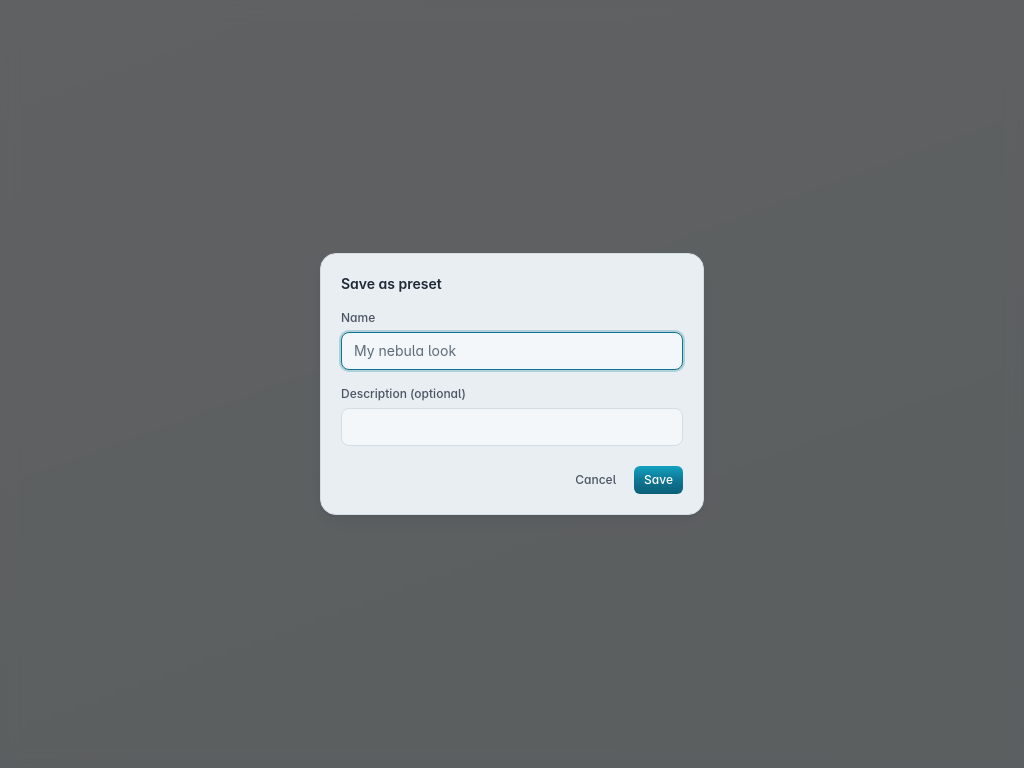
Test case: SavePresetDialog › keeps the dialog open and shows the error when saving fails
In the field with placeholder "My nebula look": (512, 351) [341, 332, 683, 370], type "Nebula"
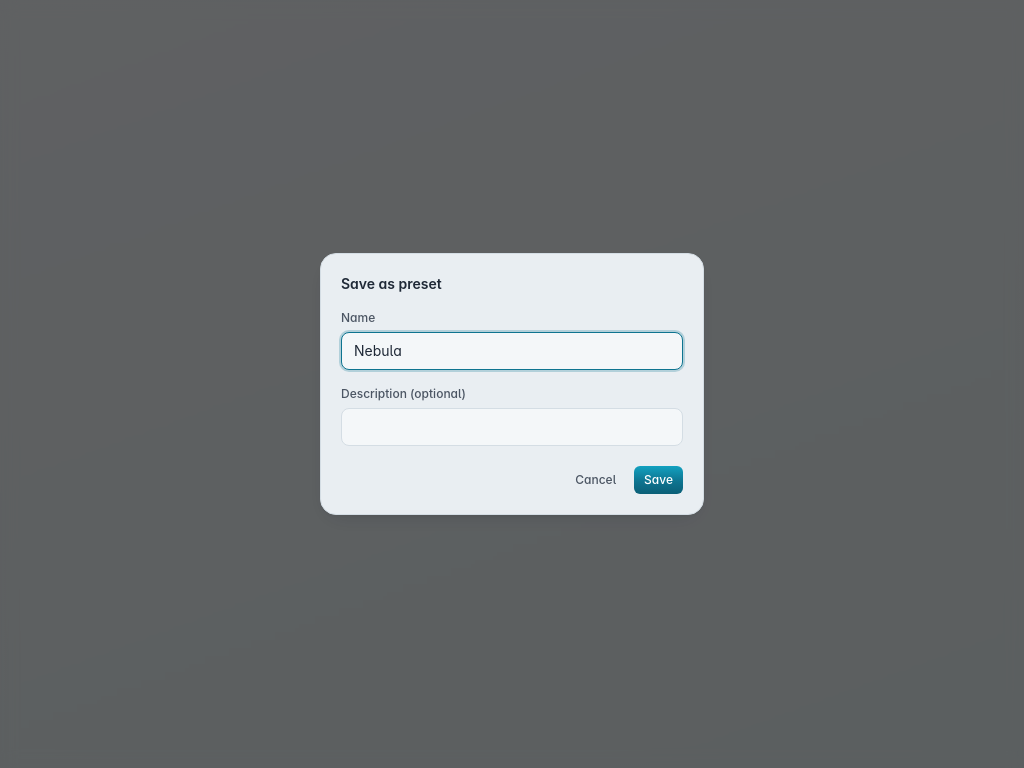
Click the button "Save": click(659, 480) [634, 466, 683, 494]
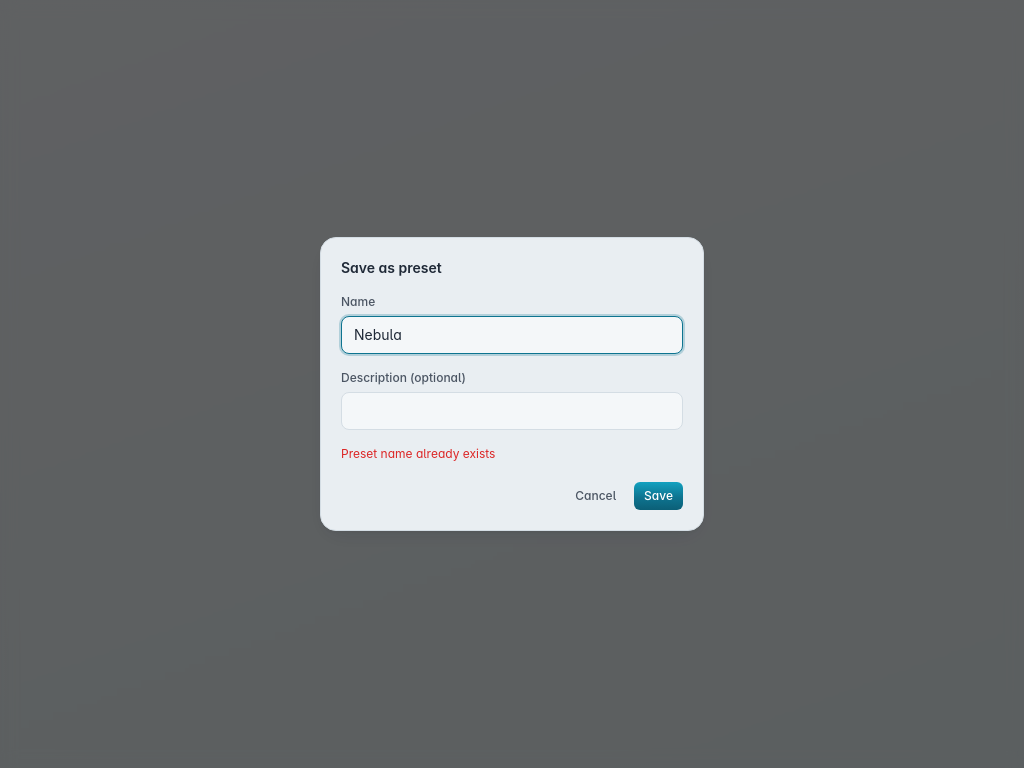
Expected: the text "Preset name already exists" is shown, [341, 446, 495, 461]
